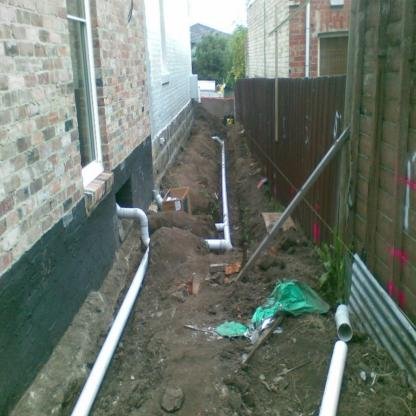PVC: (70, 203, 151, 414), (204, 135, 232, 250), (319, 339, 348, 415), (333, 303, 352, 342), (154, 189, 163, 212)
